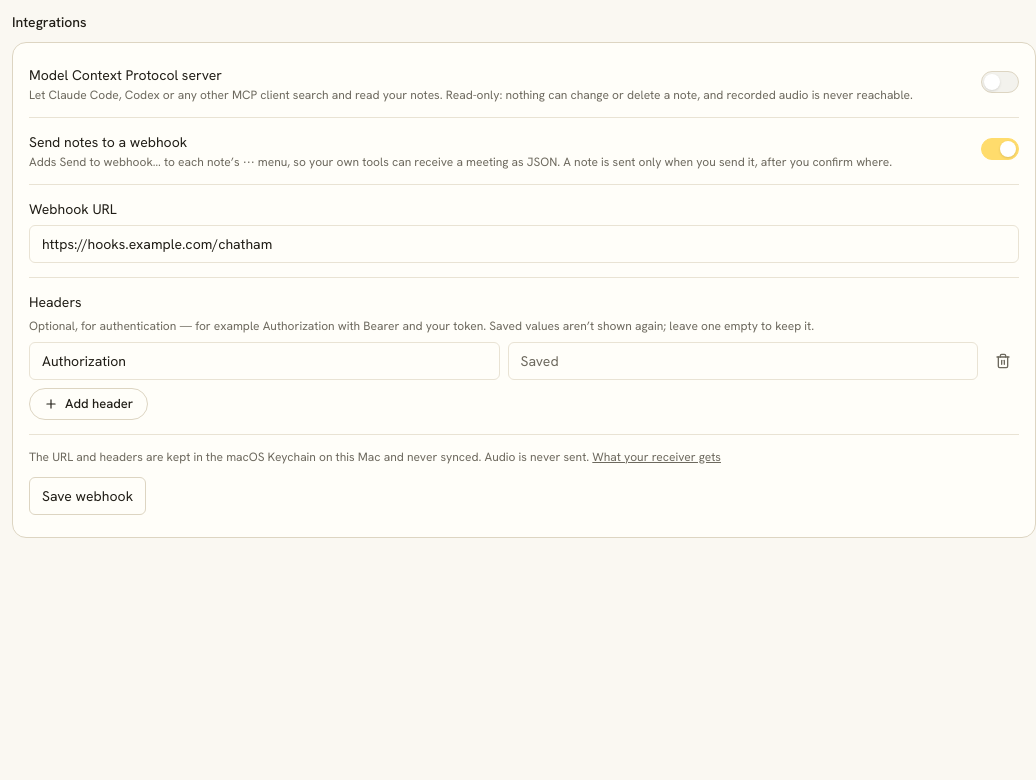
Test: the webhook endpoint › keeps an untouched saved value, sends typed ones, and drops blank rows
Step 1. Replace the text in the field named "Webhook URL" with " https://hooks.example.com/chatham/v2 " → (524, 244), box [29,225,1019,263]
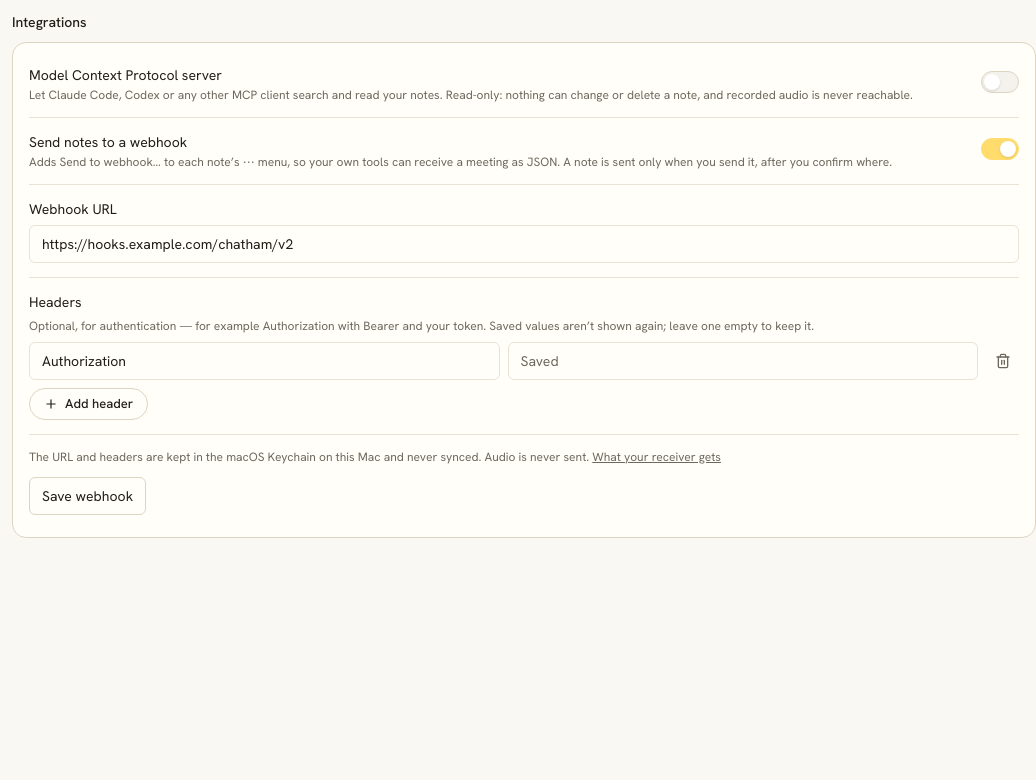
Step 2. Click the button "Add header" → (89, 404), box [29,388,148,420]
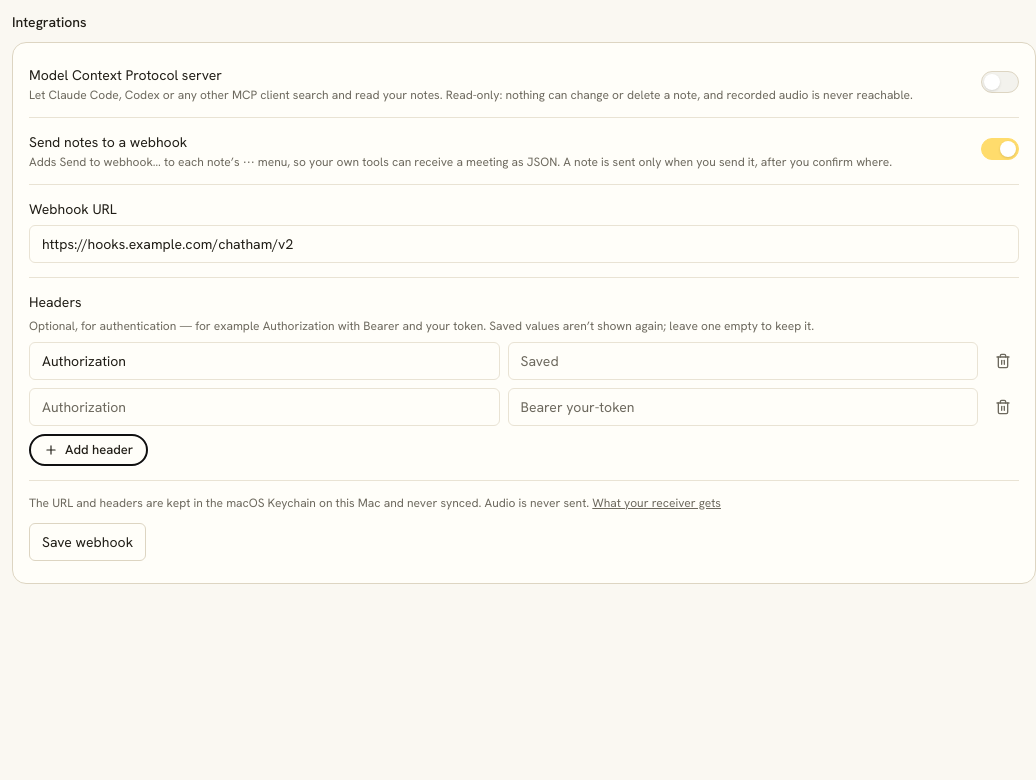
Step 3. Type "X-Team" into the field named "Header 2 name" → (264, 407), box [29,388,500,426]
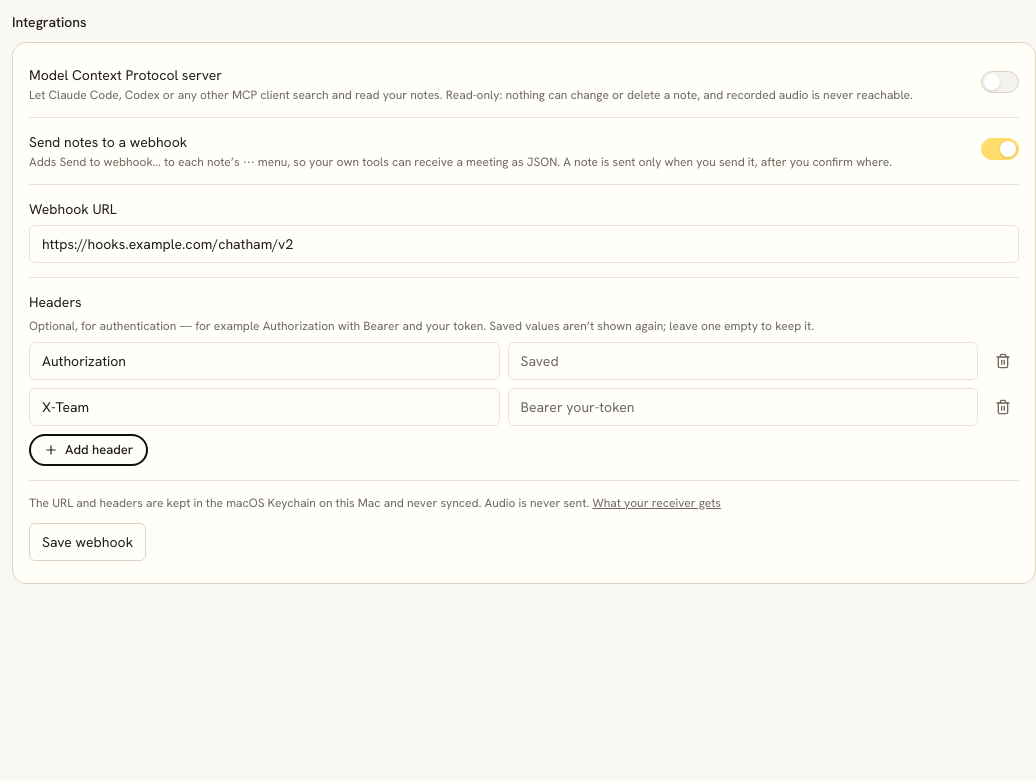
Step 4. Type "design" into the password field named "Header 2 value" → (743, 407), box [508,388,978,426]
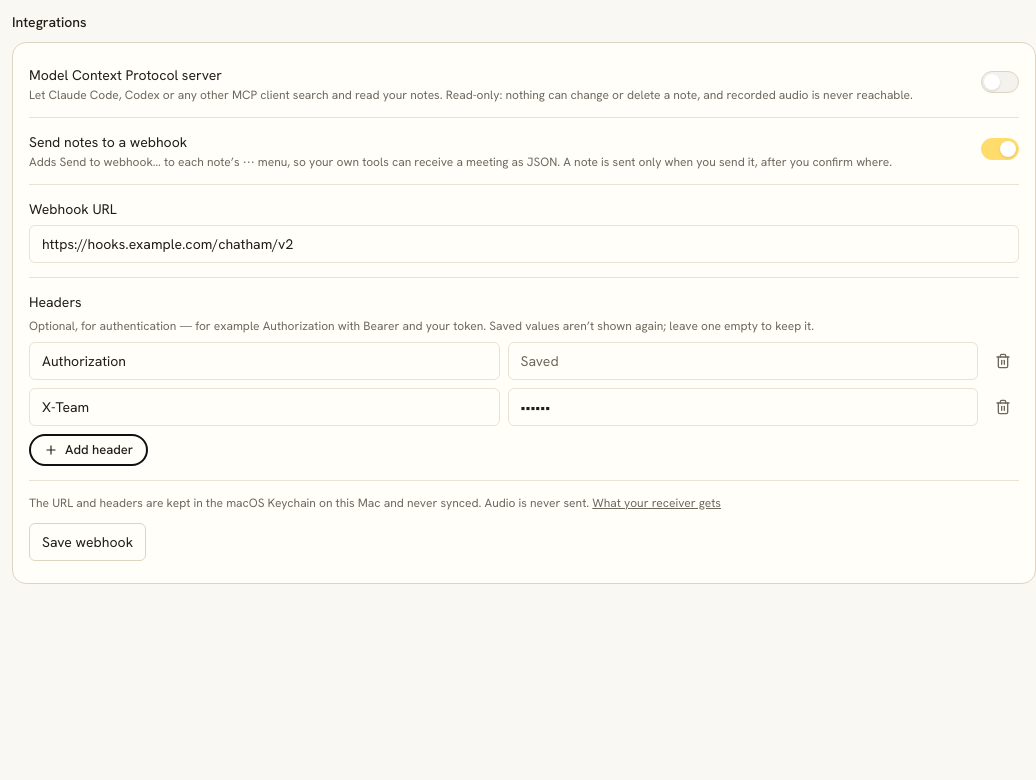
Step 5. Click the button "Add header" → (89, 450), box [29,434,148,466]
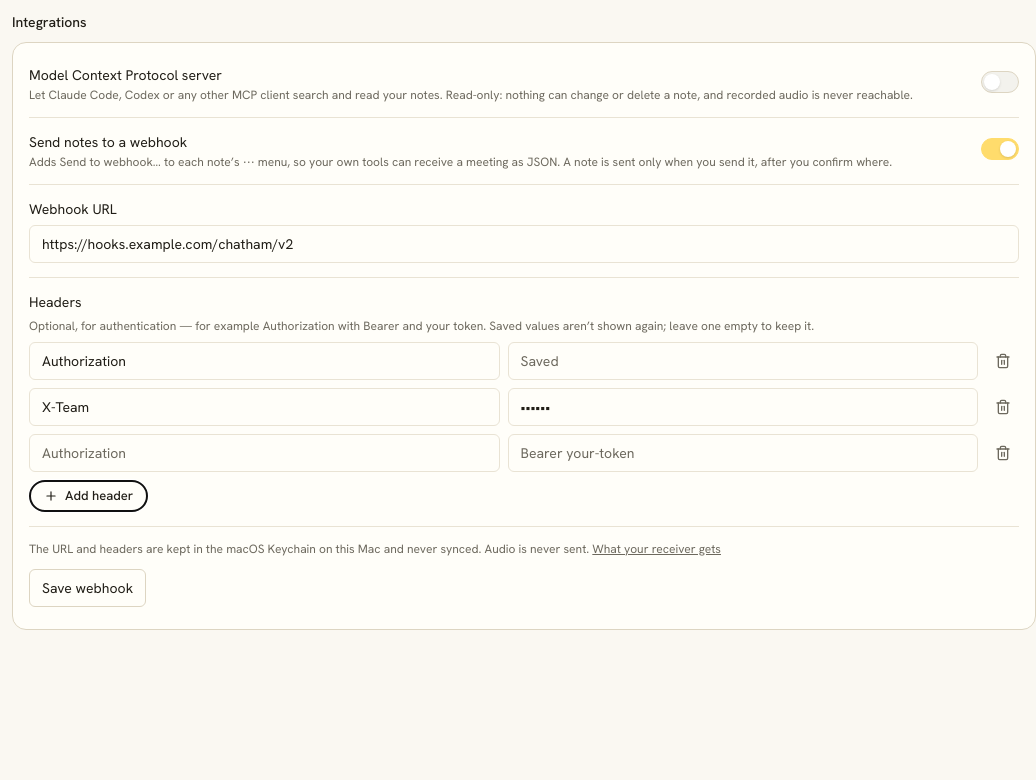
Step 6. Click the button "Save webhook" → (88, 588), box [29,569,146,607]
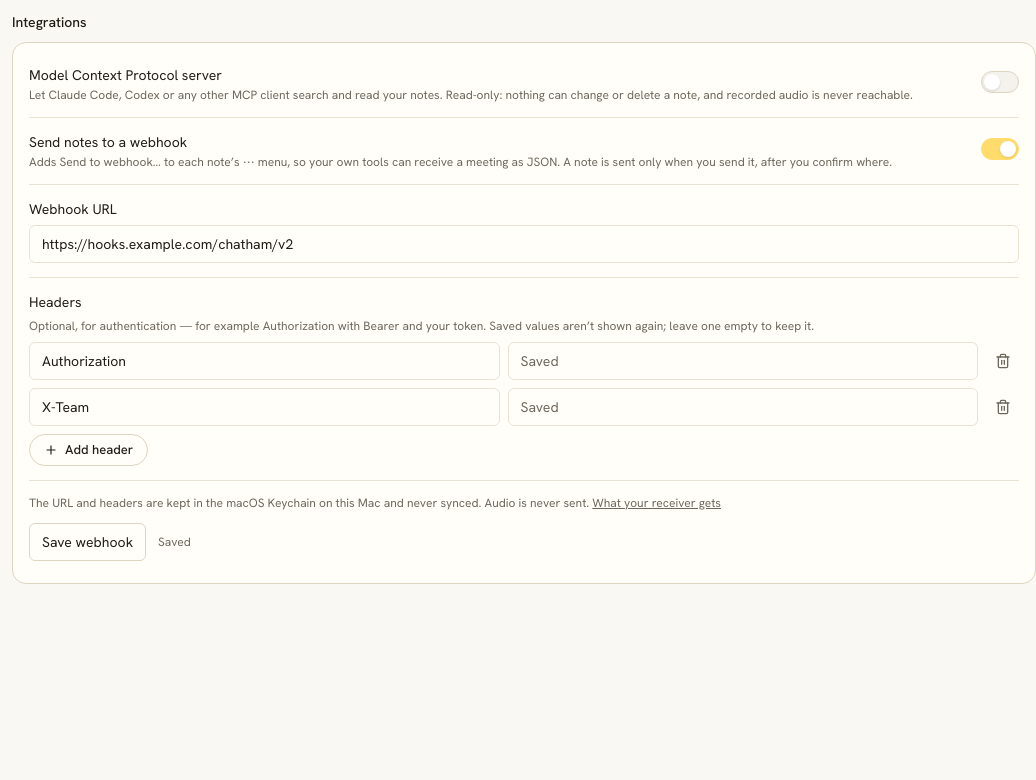
Check: the text "Saved" is shown, box [158,534,191,550]
Check: the password field named "Header 2 value" is empty, box [508,388,978,426]
